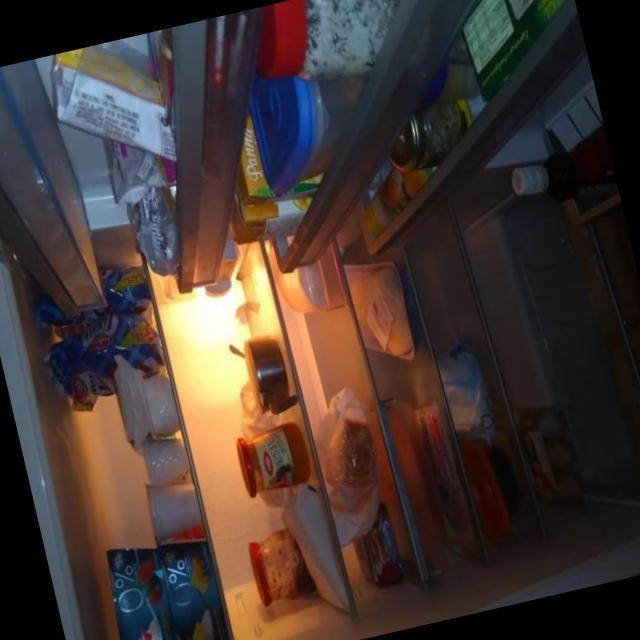Carne cerdo: (417, 402, 474, 546)
Queso: (309, 400, 384, 502), (134, 369, 185, 436)
Yogur: (89, 541, 190, 640), (154, 530, 239, 640), (137, 474, 211, 548), (133, 424, 199, 484)
